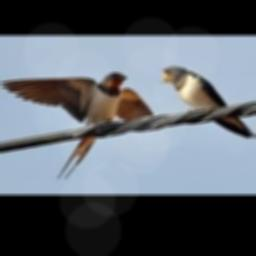Swallow: (1, 72, 156, 179), (160, 67, 256, 138)
